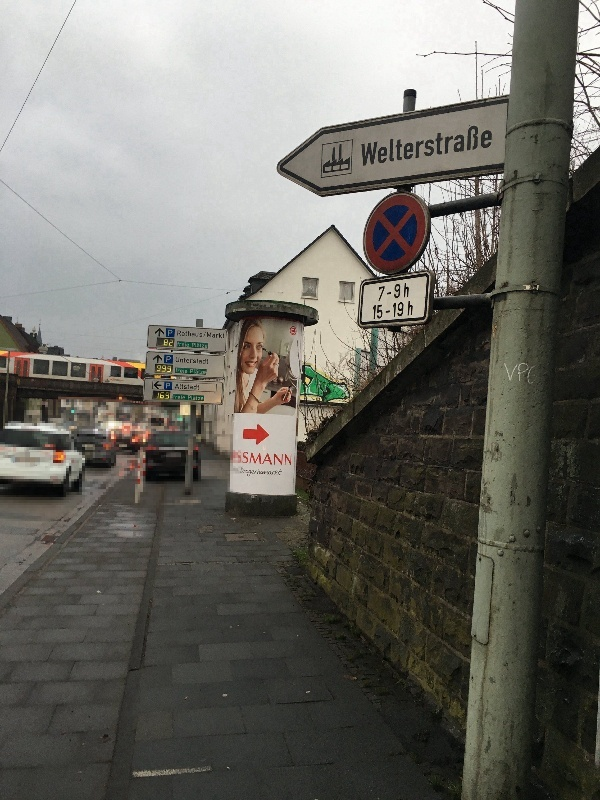text: (369, 124, 384, 167), (385, 124, 400, 167), (401, 124, 416, 167), (417, 124, 432, 167), (433, 124, 448, 167), (449, 124, 464, 167), (465, 124, 480, 167), (481, 124, 492, 167), (513, 363, 528, 387), (362, 124, 368, 167), (241, 452, 256, 466), (257, 452, 272, 466), (273, 452, 288, 466), (529, 363, 537, 387), (404, 283, 416, 298), (373, 304, 384, 320), (505, 363, 512, 387), (241, 467, 256, 477), (257, 467, 272, 477), (393, 300, 400, 319), (177, 357, 192, 365), (193, 357, 208, 365), (408, 301, 416, 316), (193, 342, 208, 349), (273, 467, 283, 477), (178, 331, 192, 338), (209, 333, 224, 339), (177, 384, 192, 390), (165, 339, 176, 347), (161, 365, 172, 373), (193, 369, 207, 375), (379, 286, 384, 302), (395, 284, 400, 300), (193, 395, 204, 402), (193, 331, 203, 338), (178, 342, 192, 347), (177, 368, 188, 374), (167, 356, 176, 363), (161, 392, 170, 399), (166, 383, 176, 389), (401, 300, 404, 319), (169, 330, 176, 337), (233, 467, 240, 474), (177, 395, 186, 400), (289, 452, 292, 466), (193, 384, 200, 390), (386, 311, 400, 314), (387, 292, 400, 295), (238, 452, 240, 466), (188, 395, 192, 402), (204, 332, 208, 338), (158, 365, 160, 373), (158, 392, 160, 399), (174, 395, 176, 400), (207, 333, 208, 339), (191, 369, 192, 375)
